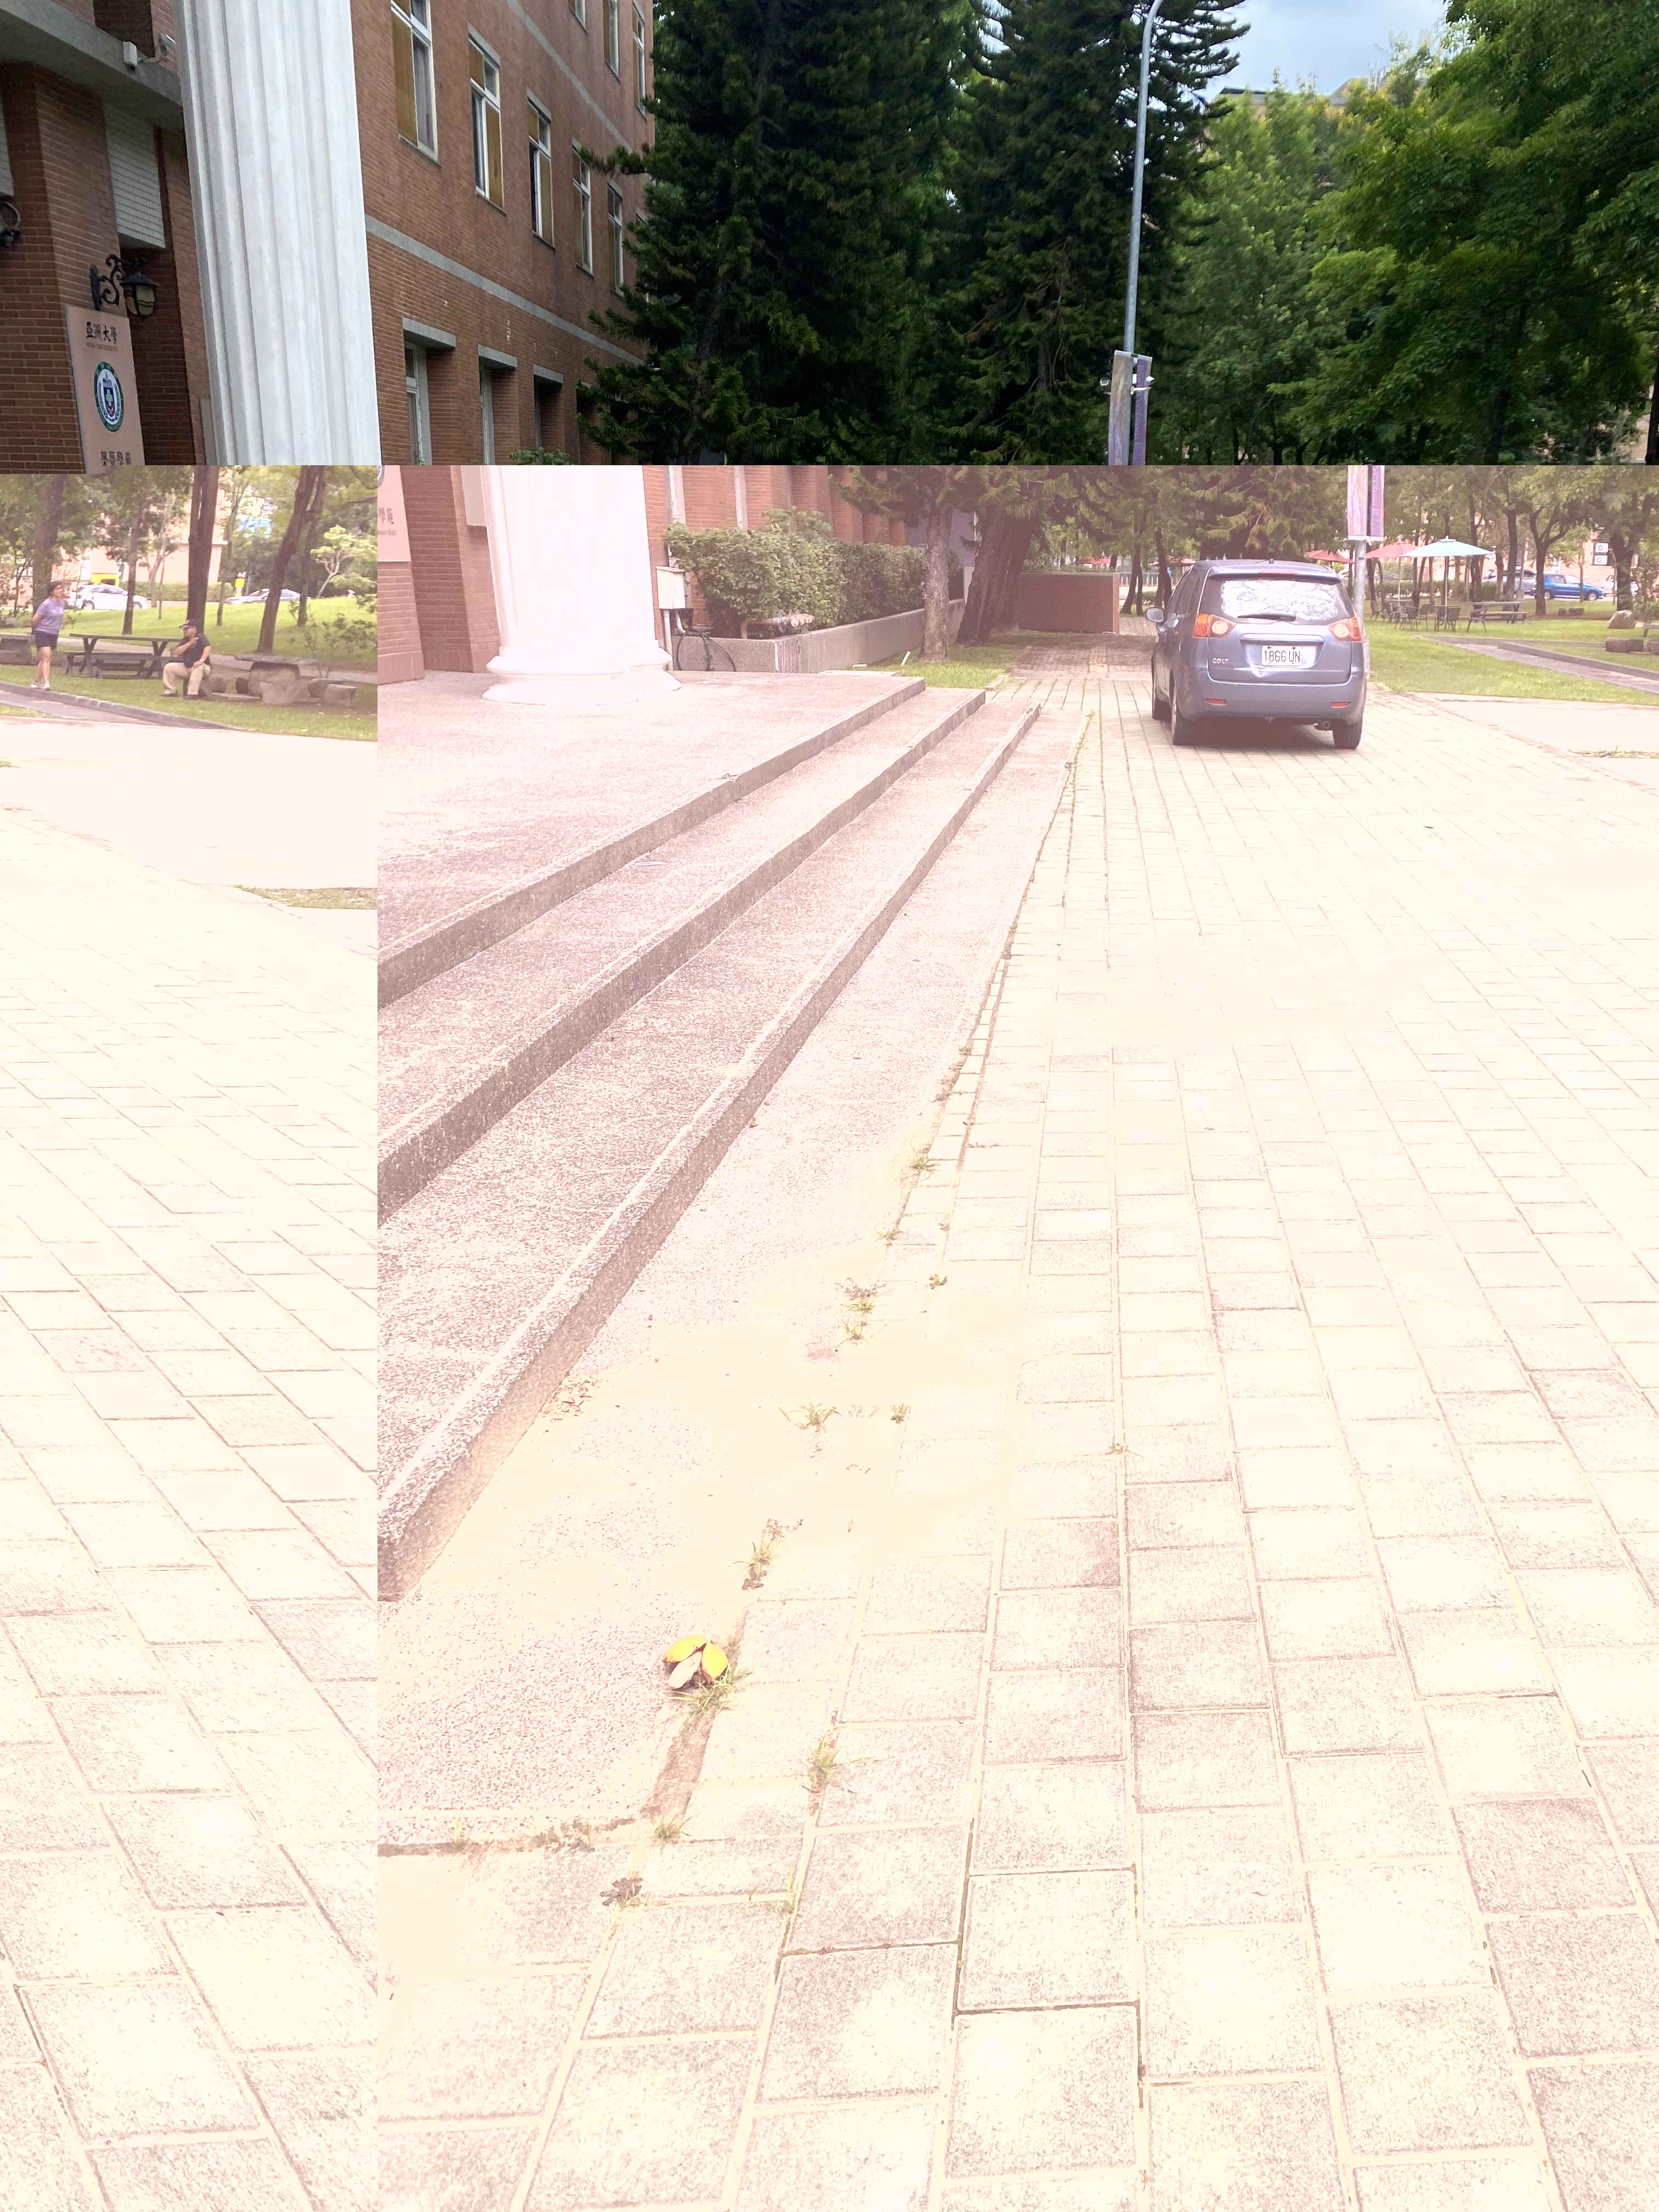sidewalk: (12, 563, 1659, 2212)
